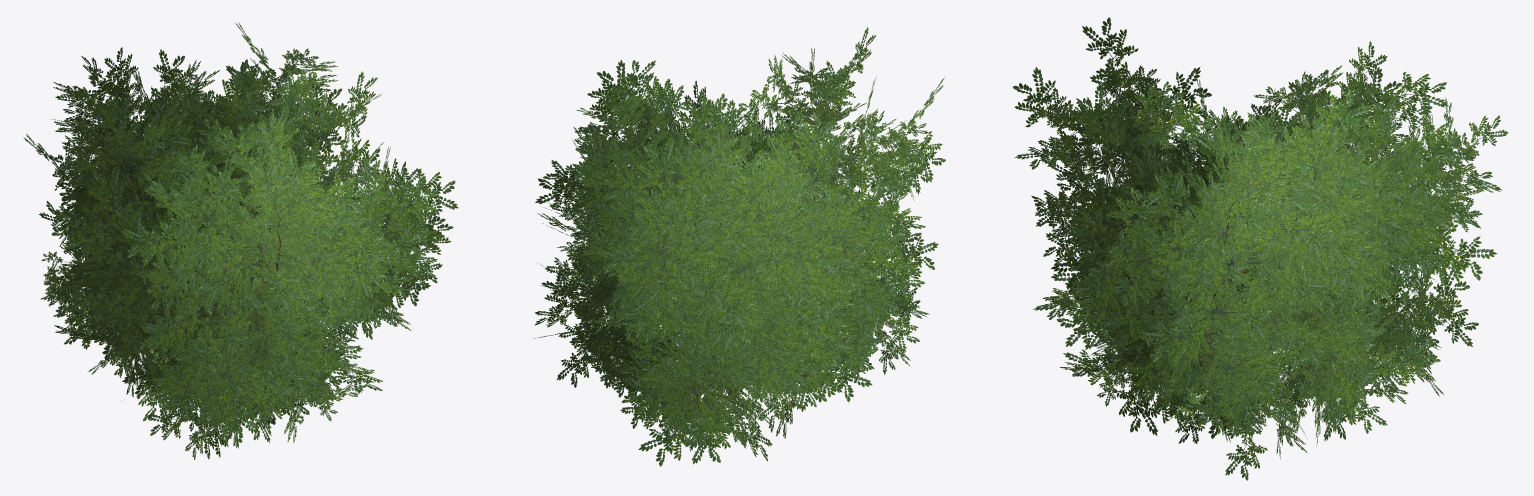
Rendered from bush1.glb.
3 views of the same model, side by side, from view 1: azimuth 30°, elevation 25°; view 2: azimuth 150°, elevation 25°; view 3: azimuth 270°, elevation 25° (orthographic). The views are drawn at different scales.
Parts seen in each view (by area): view 1: Leaves_LOD0, Trunk_LOD0; view 2: Leaves_LOD0, Trunk_LOD0; view 3: Leaves_LOD0, Trunk_LOD0.
Boxes of the visible parts, left/top/right/bottom form: Leaves_LOD0: left=23, top=22, right=458, bottom=459; Trunk_LOD0: left=59, top=87, right=384, bottom=410; Leaves_LOD0: left=533, top=27, right=945, bottom=466; Trunk_LOD0: left=586, top=101, right=883, bottom=400; Leaves_LOD0: left=1013, top=17, right=1508, bottom=480; Trunk_LOD0: left=1088, top=113, right=1448, bottom=426.
Size of what is drawn, in the model's own units: 1.17 by 1.1 by 1.29.
Materials: 2 (1 with a texture image).
